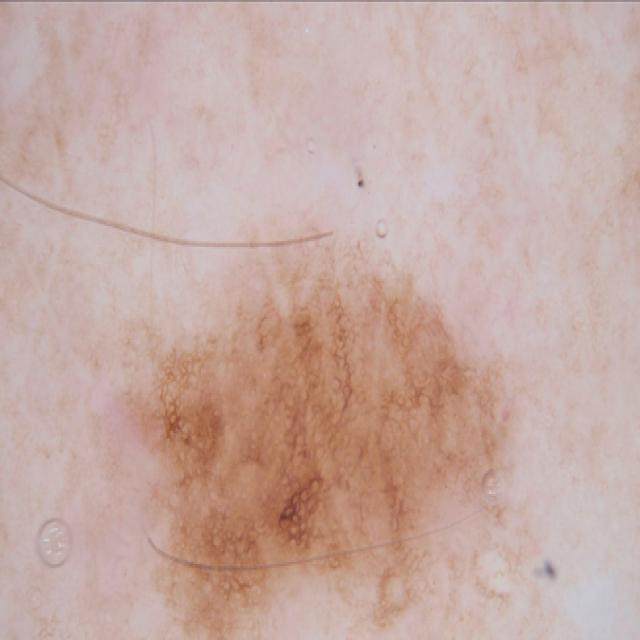Keratosis: (125, 241, 535, 640)
